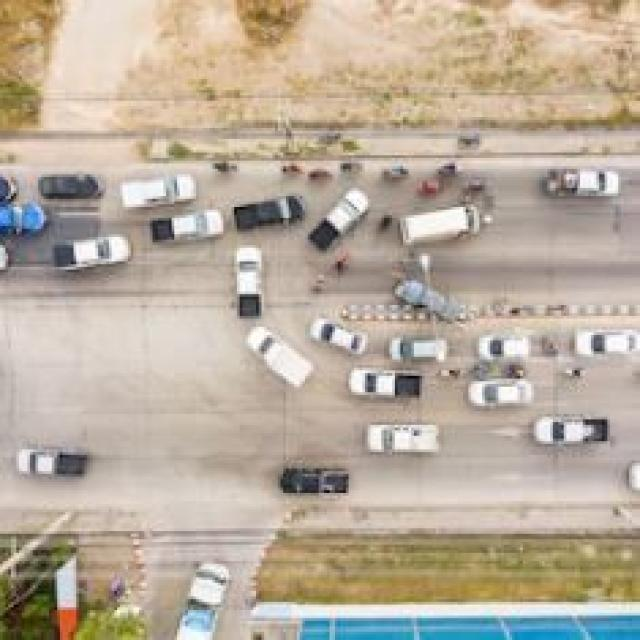traffic_incident: (386, 278, 466, 332)
